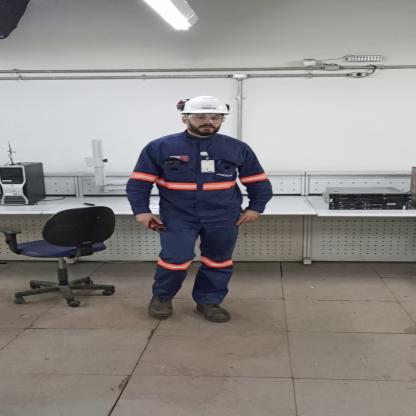Capacete: (177, 94, 233, 115)
